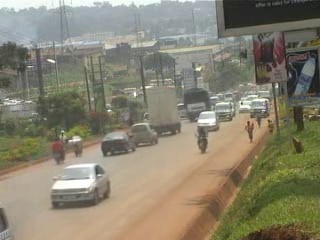Car: (48, 160, 113, 210), (98, 129, 137, 156), (128, 120, 161, 147), (194, 110, 219, 131), (237, 99, 253, 113)
Motorcycle: (192, 125, 210, 154), (67, 132, 86, 157), (50, 138, 66, 165)
